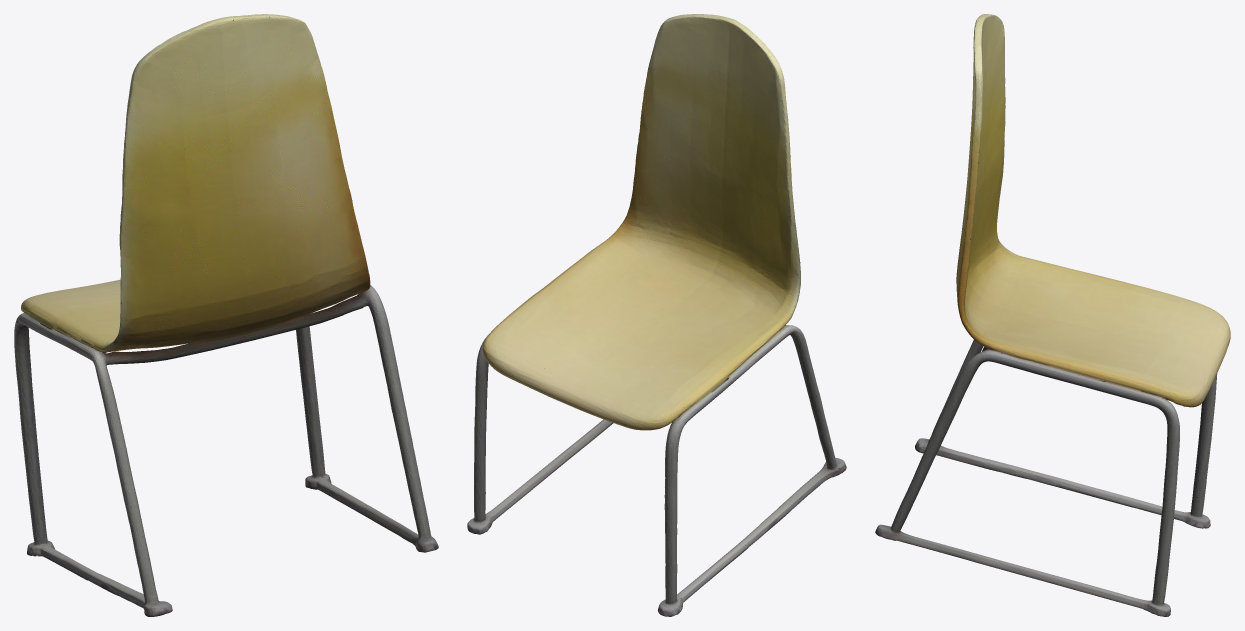
The model's file is light-colored_wooden_chair_partially_visible_behind_foreground_table_(left)_000.glb.
3 renders of one model, left to right at view 1: azimuth 30°, elevation 25°; view 2: azimuth 150°, elevation 25°; view 3: azimuth 270°, elevation 25°, orthographic. The views are drawn at different scales.
Parts seen in each view (by area): view 1: light-colored_wooden_chair_partially_visible_behind_foregrou; view 2: light-colored_wooden_chair_partially_visible_behind_foregrou; view 3: light-colored_wooden_chair_partially_visible_behind_foregrou.
Boxes of the visible parts, box(x1,y1,x2,y2) form: light-colored_wooden_chair_partially_visible_behind_foregrou: box(14, 14, 438, 616); light-colored_wooden_chair_partially_visible_behind_foregrou: box(467, 14, 846, 616); light-colored_wooden_chair_partially_visible_behind_foregrou: box(875, 14, 1230, 616).
Bounding box in the file's own units: 0.1478 × 0.2716 × 0.1658.
Materials: 1 (1 with a texture image).
